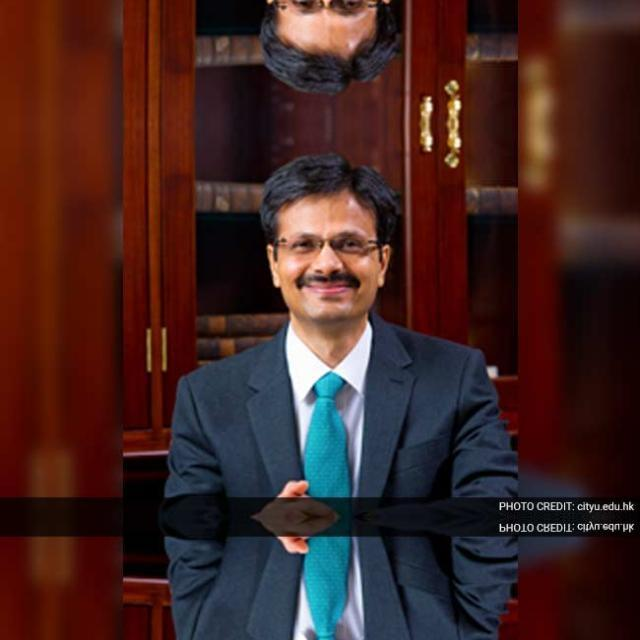person: (241, 144, 427, 400), (241, 0, 427, 102), (241, 632, 427, 640)
